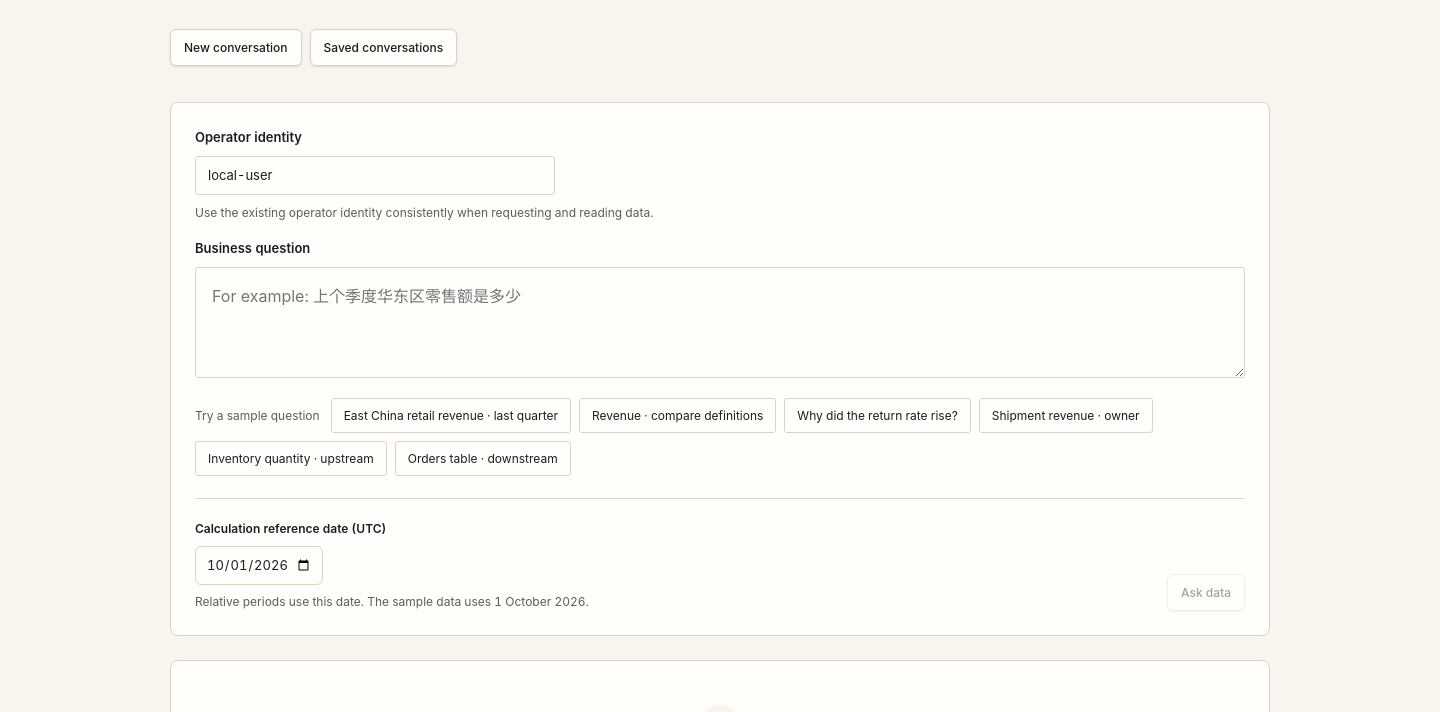
retries failed replay through GET and preserves the saved metric version
Step 1. Click the button "East China retail revenue · last quarter" → (451, 415), box [331, 398, 571, 433]
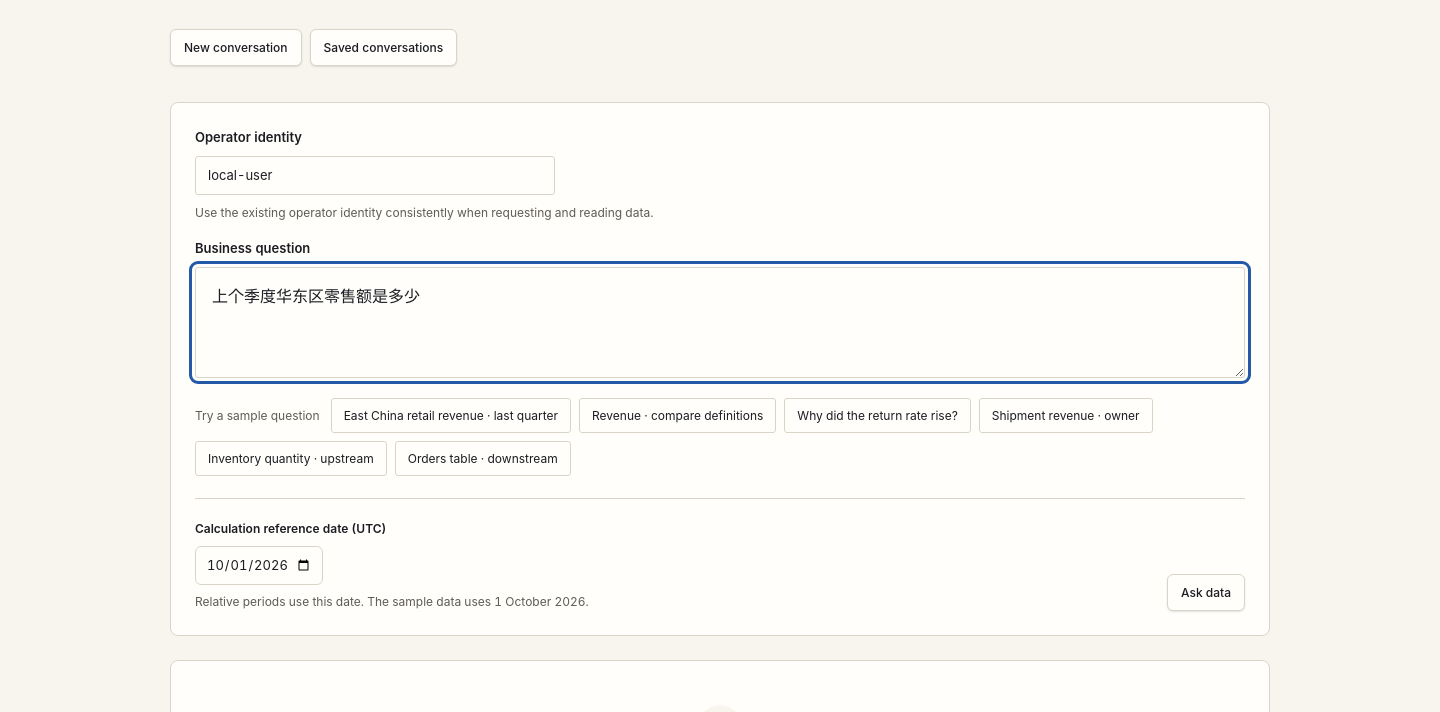
Step 2. Click the button "Ask data" → (1206, 592), box [1167, 574, 1245, 611]
(page scrolled)
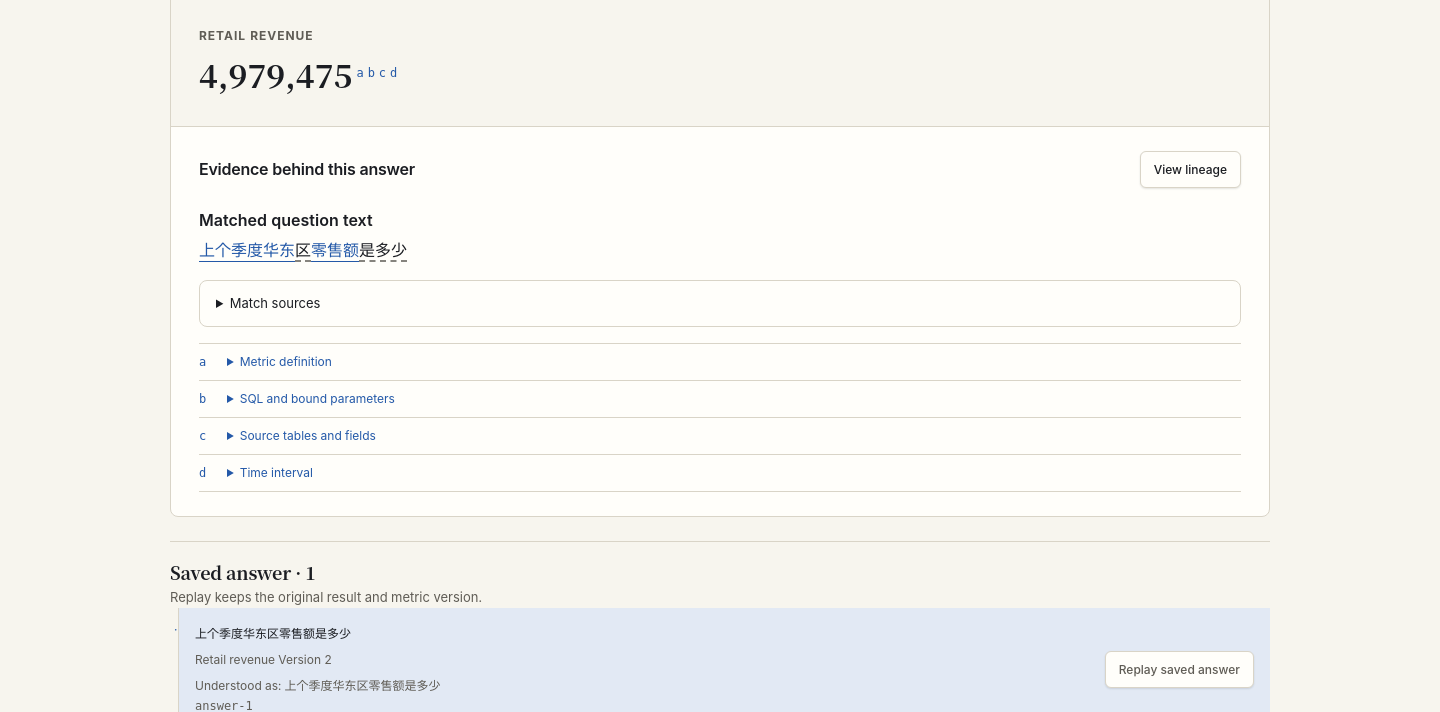
Step 3. Click the button "Replay saved answer" → (1179, 670), box [1105, 651, 1254, 688]
(page scrolled)
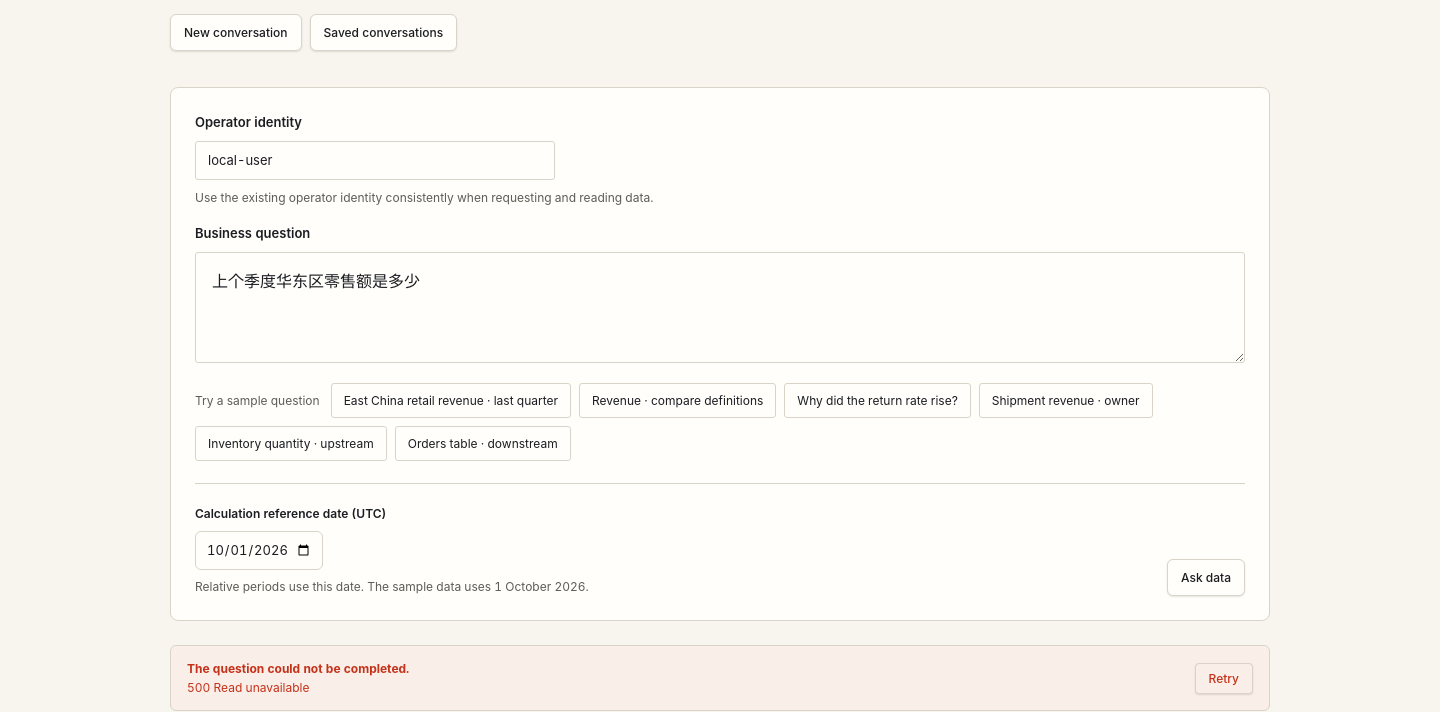
Check: the message shows "500 Read unavailable", box [187, 680, 310, 695]
Step 4. Click the button "Retry" → (1224, 678), box [1194, 663, 1253, 694]
(page scrolled)
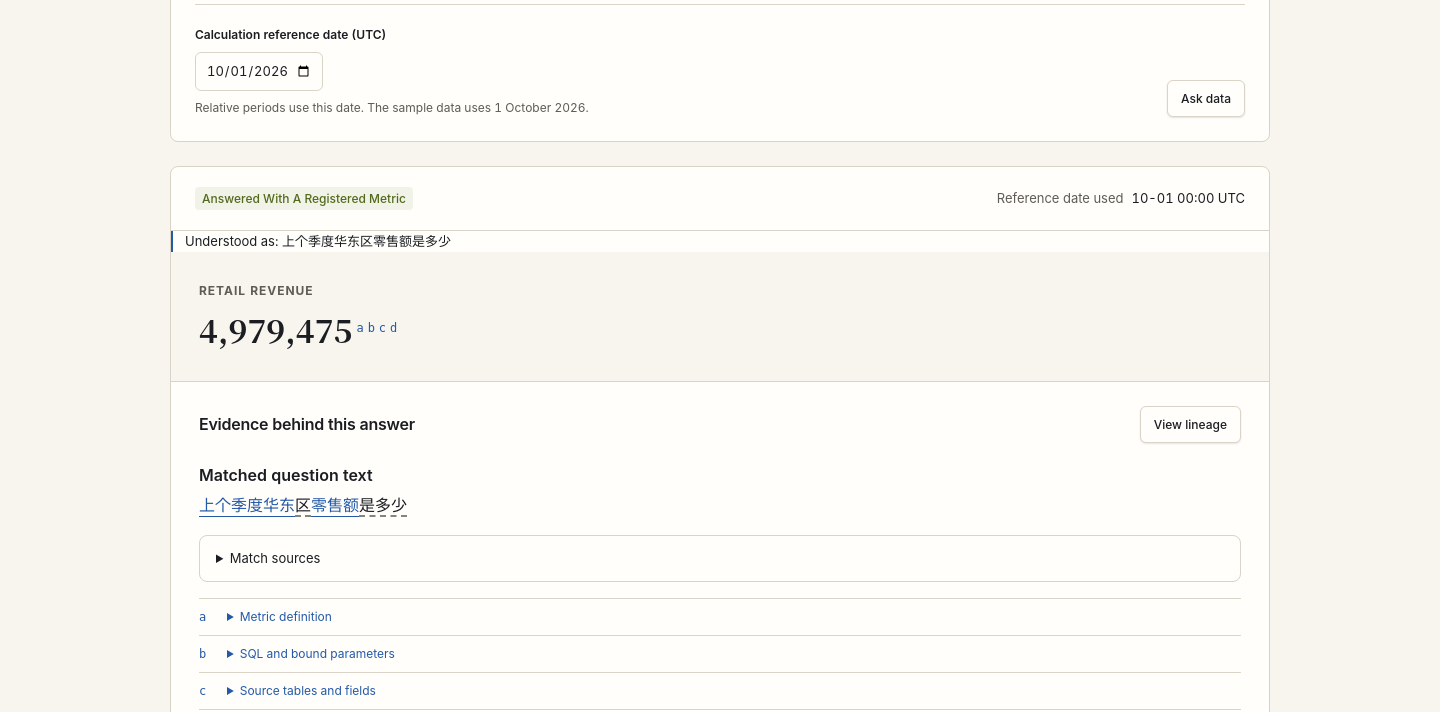
Step 5. Click the link named "a · Metric definition" → (360, 328), box [356, 321, 364, 335]
(page scrolled)
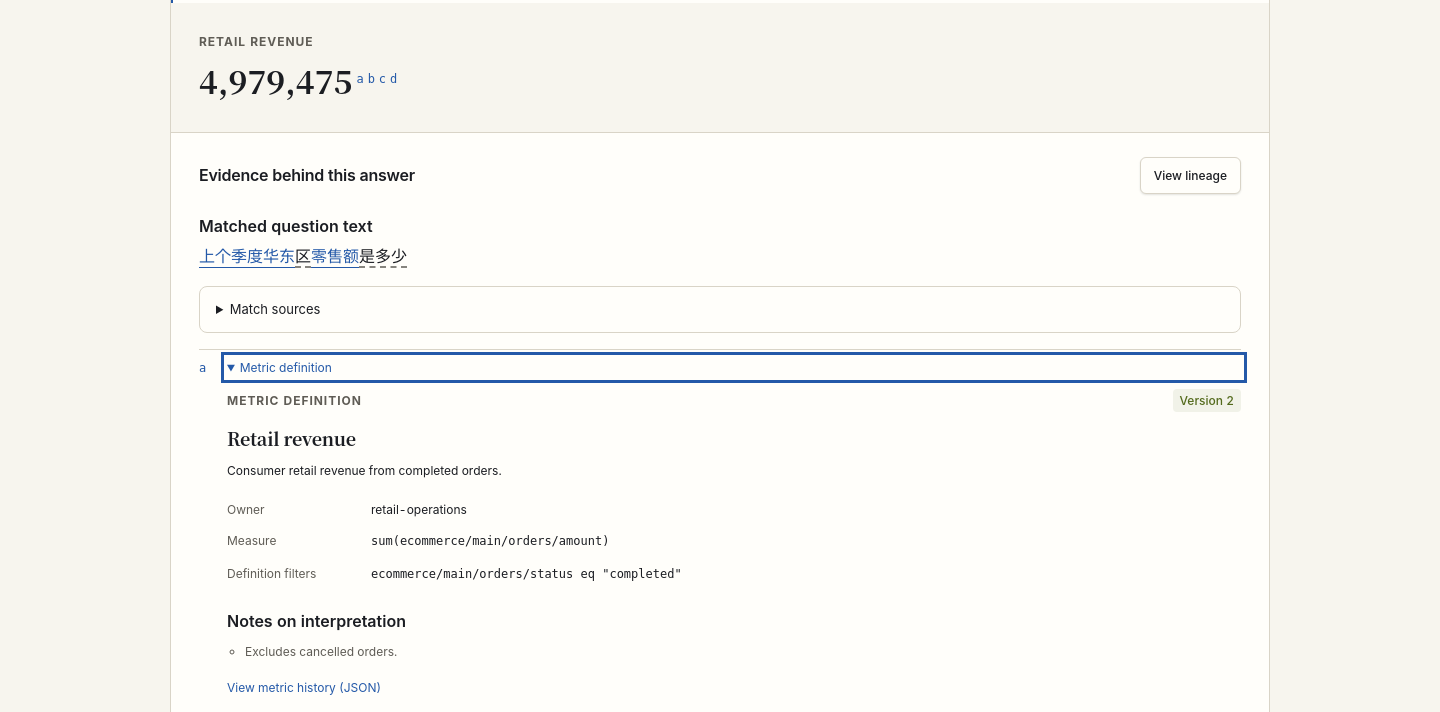
Check: the text "Version 2" is shown, box [1172, 389, 1241, 412]
